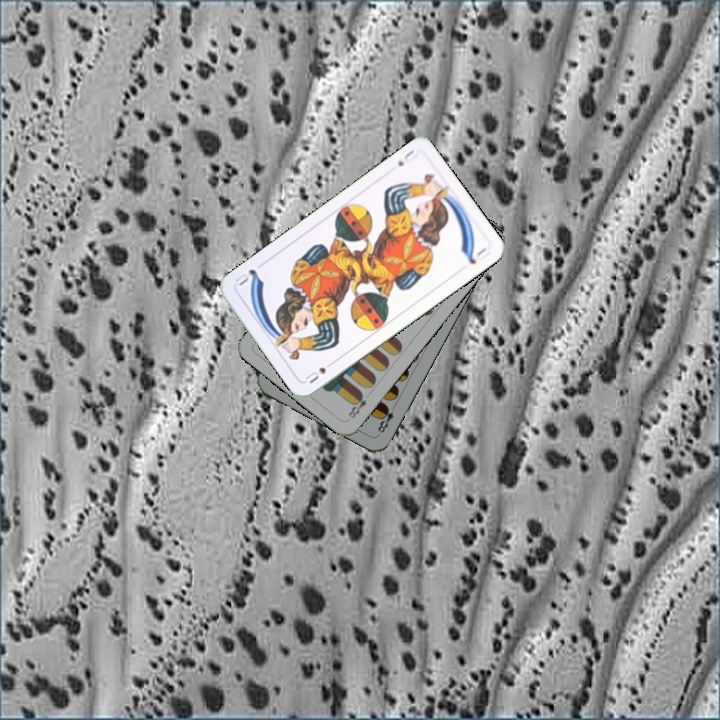E8: (344, 389, 370, 421), (373, 402, 396, 437)
SU: (301, 356, 337, 386), (393, 145, 420, 169)
